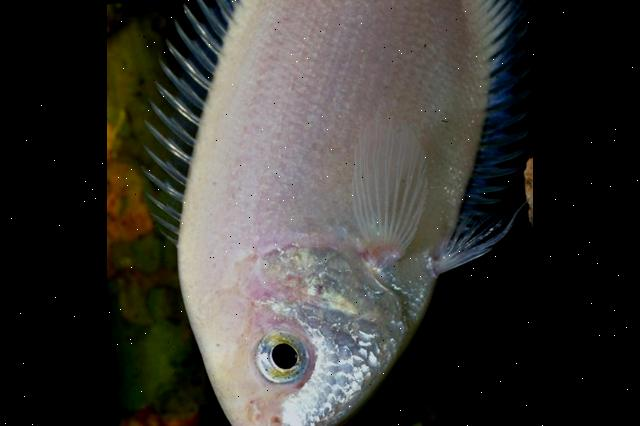Mulut: (214, 395, 324, 426)
Sirip Anal: (431, 0, 532, 228)
Sirip Dada: (333, 97, 441, 277)
Sirip Perut: (418, 195, 533, 302)
Sirip Punggung: (125, 0, 315, 258)
